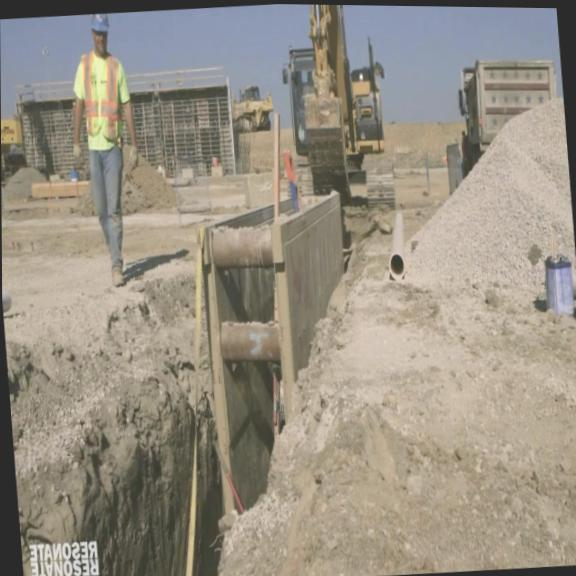safety_vest: (79, 48, 130, 144)
